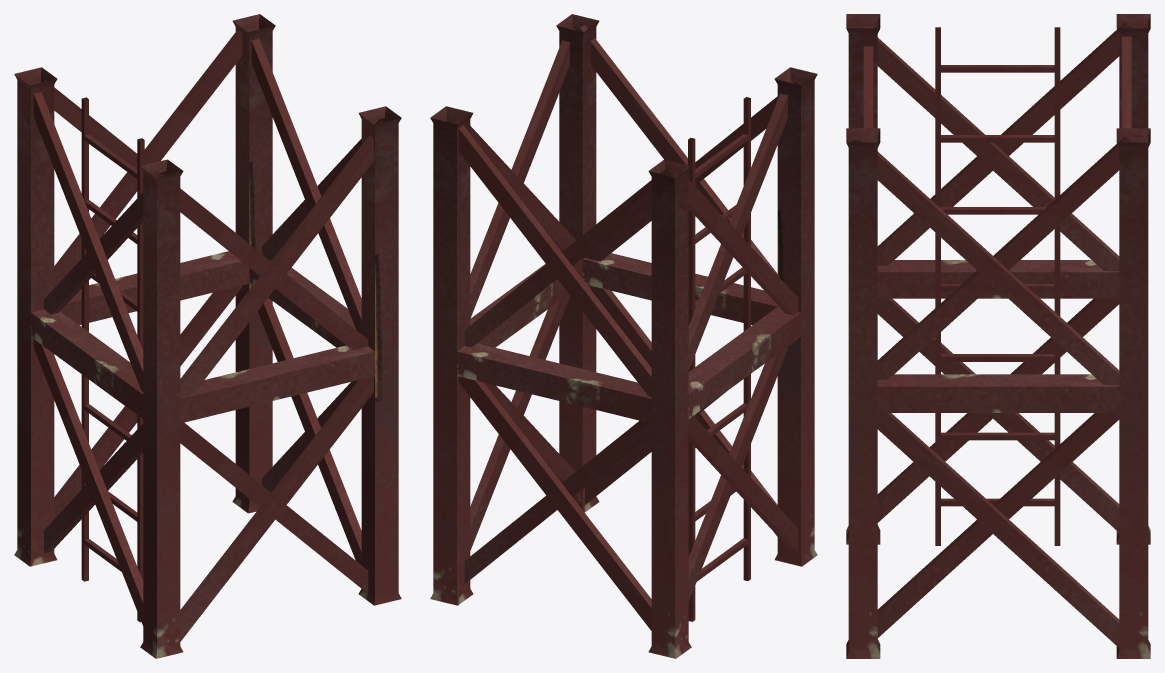
Rendered from CS_crane_01.FBX.
3 views of the same model, side by side, from view 1: azimuth 30°, elevation 25°; view 2: azimuth 150°, elevation 25°; view 3: azimuth 270°, elevation 25° (orthographic). The views are drawn at different scales.
Parts seen in each view (by area): view 1: SM_crane_01; view 2: SM_crane_01; view 3: SM_crane_01.
Part boxes in pixels (x1,y1,x2,y2): SM_crane_01: [14, 14, 401, 658]; SM_crane_01: [430, 14, 817, 658]; SM_crane_01: [846, 14, 1150, 658].
Size of the model in its own units: 158 by 158 by 295.
